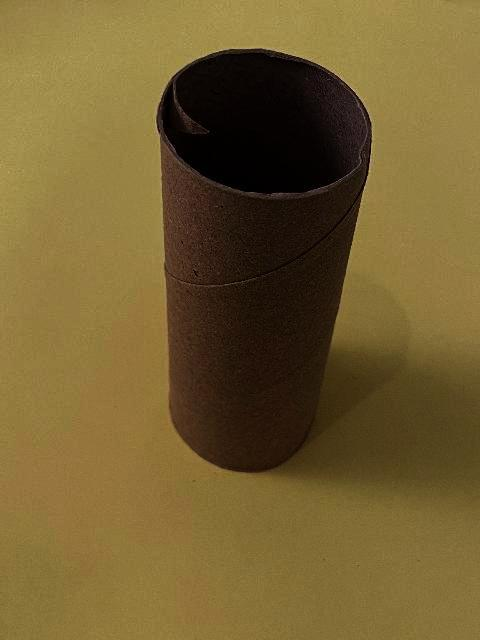tissueroll: (155, 45, 373, 475)
